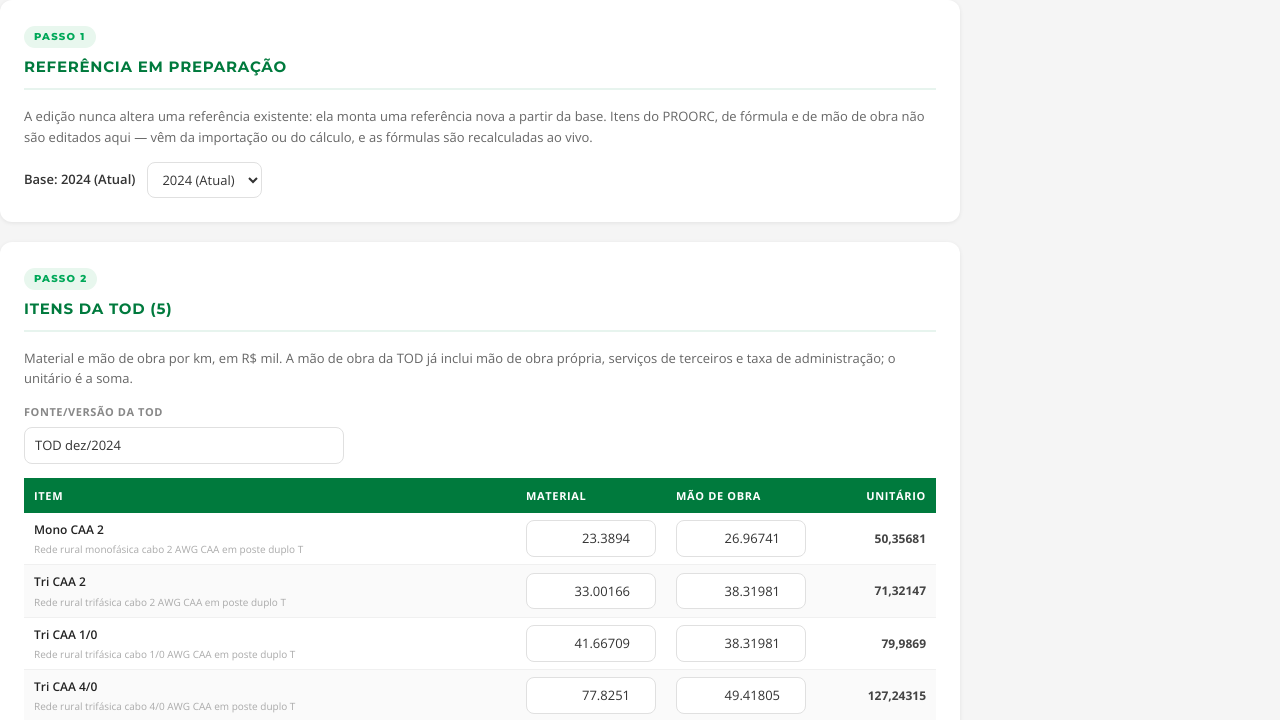
it: R7 — tela "Editar valores" › alterar a TOD de Tri CAA 1/0 recalcula ao vivo os dependentes
Replace the text in the number field named "Tri CAA 1/0 — material" with "45" at (591, 643), box [526, 625, 656, 662]
(page scrolled)
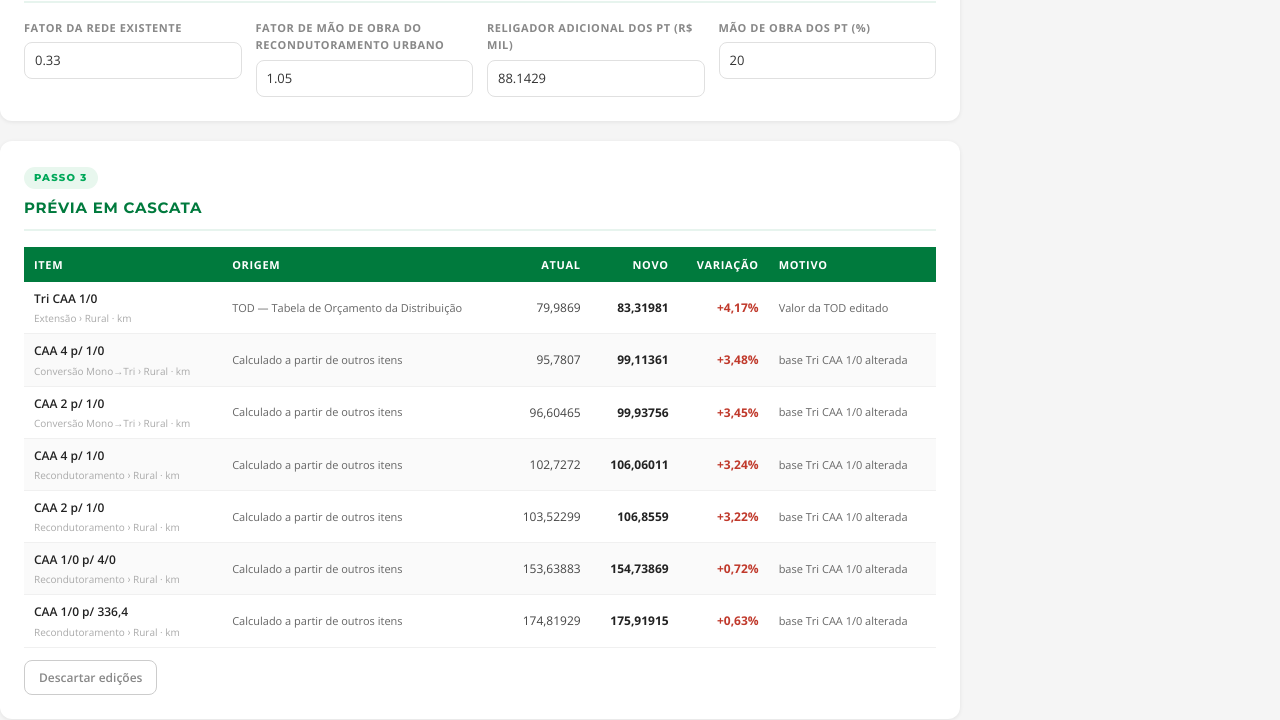
Check: the text "153,63883" is shown, box [503, 543, 591, 595]
Check: the text "154,73869" is shown, box [591, 543, 679, 595]
Check: the text "base Tri CAA 1/0 alterada" in the row of "CAA 1/0 p/ 4/0" is shown, box [779, 561, 908, 576]
